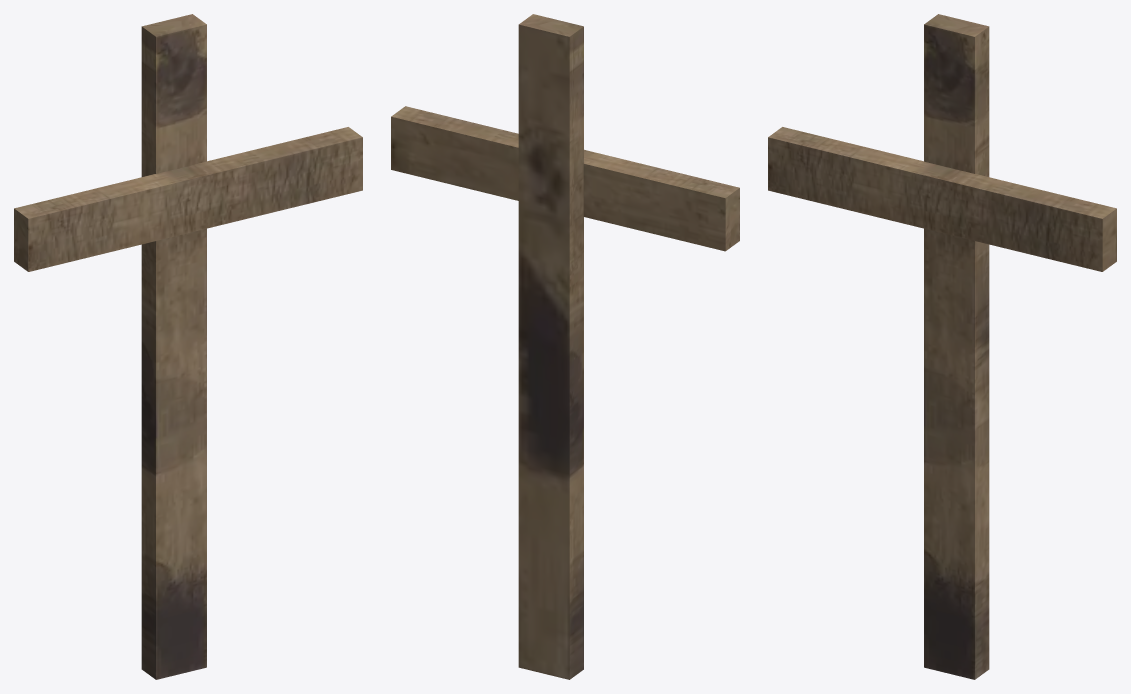
File: cross.glb
The picture shows the model from 3 angles, left to right: view 1: azimuth 30°, elevation 25°; view 2: azimuth 150°, elevation 25°; view 3: azimuth 330°, elevation 25°; orthographic projection.
Visible parts, largest first — view 1: pCube3; view 2: pCube3; view 3: pCube3.
Part boxes in pixels (bbox=[...]): pCube3: bbox=[14, 14, 362, 679]; pCube3: bbox=[391, 14, 739, 679]; pCube3: bbox=[768, 14, 1116, 679].
Size of the model in its own units: 27.21 by 50 by 4.02.
1 material, 1 textured.
